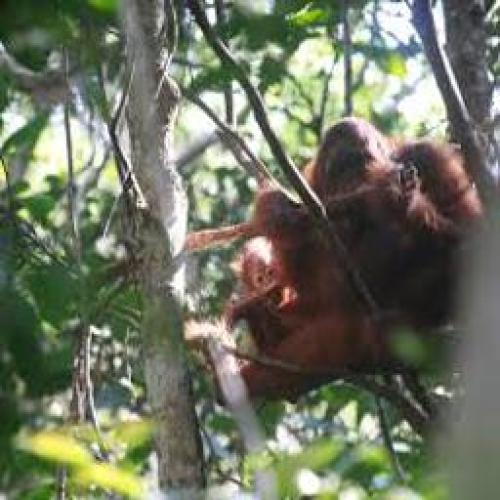orangutan-endangered: (298, 115, 487, 333), (205, 190, 382, 402)
